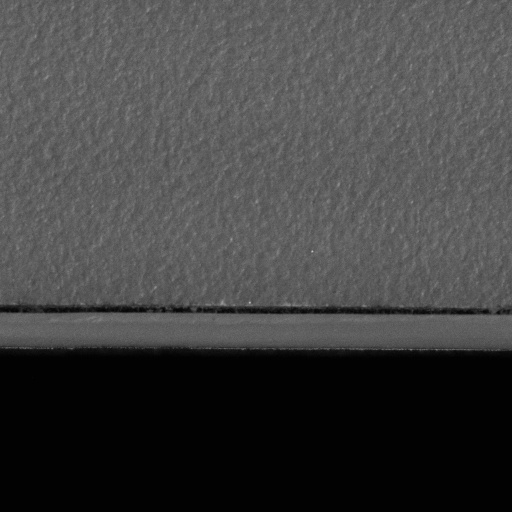jiaofeng: (2, 298, 511, 331)
